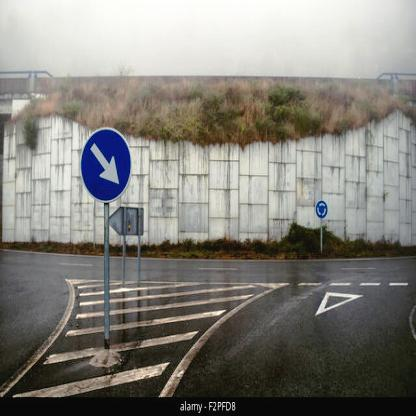Keep right: (77, 125, 133, 206)
